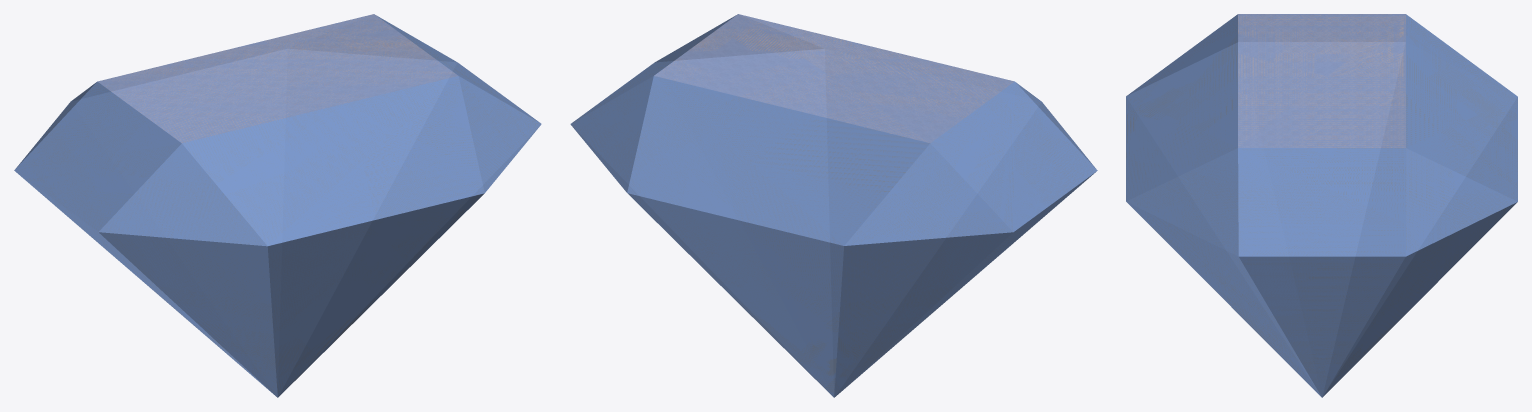
Rendered from diamond2.dae.
The picture shows the model from 3 angles, left to right: view 1: azimuth 30°, elevation 25°; view 2: azimuth 150°, elevation 25°; view 3: azimuth 270°, elevation 25°; orthographic projection.
Visible parts, largest first — view 1: diamond (×2); view 2: diamond (×2); view 3: diamond (×2).
Boxes of the visible parts, x1=… form: diamond (×2): x1=14, y1=14, x2=541, y2=397; diamond (×2): x1=570, y1=14, x2=1097, y2=397; diamond (×2): x1=1126, y1=14, x2=1517, y2=397.
Bounding box in the file's own units: 497 × 383 × 342.
